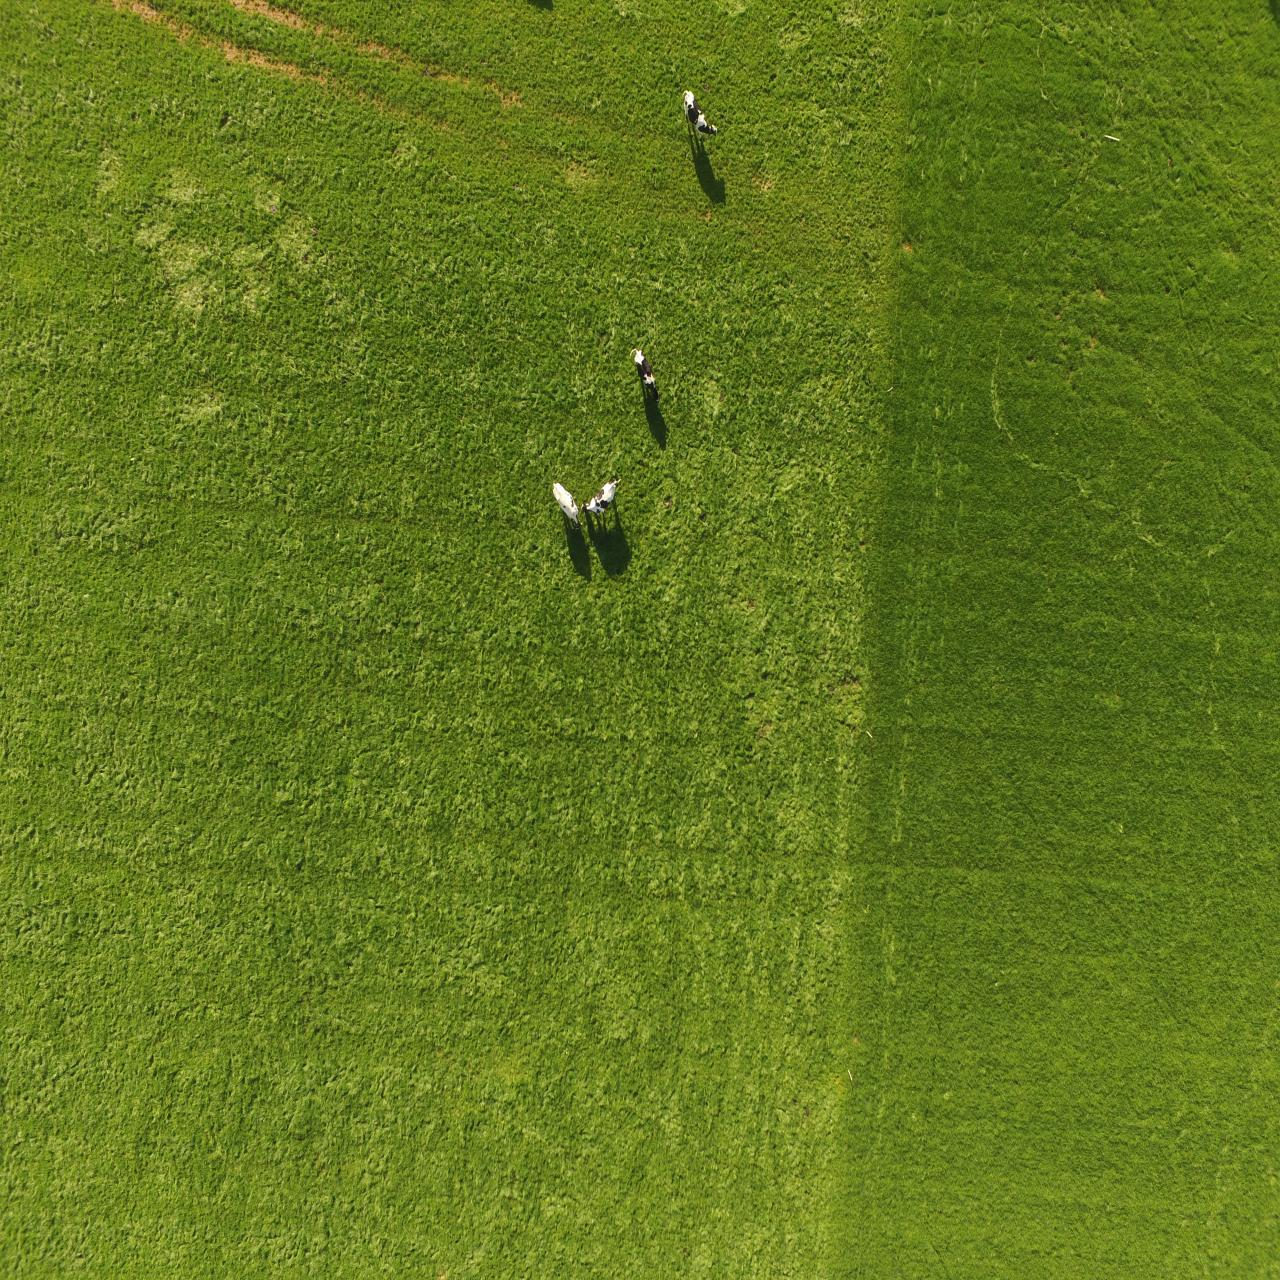cow: (544, 478, 594, 539), (681, 82, 724, 138), (634, 342, 659, 402), (592, 479, 622, 523)
